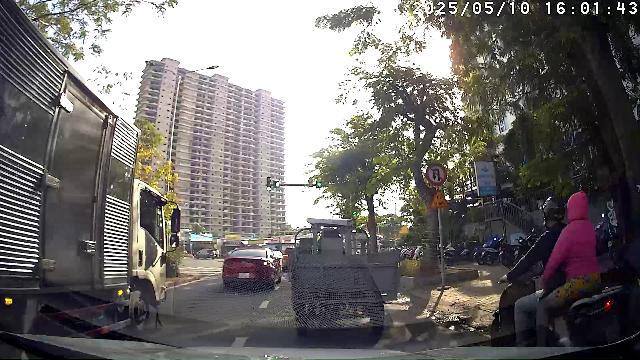124a-cam-quay-dau-xe: (426, 164, 447, 186)
